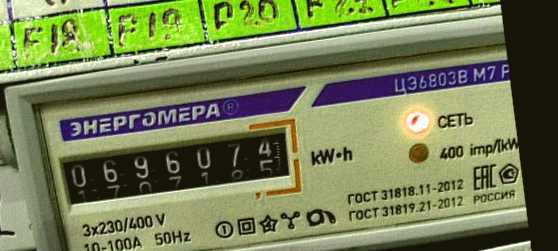0: (68, 161, 90, 188), (193, 143, 213, 171)
4: (255, 134, 273, 158)
5: (258, 157, 276, 179)
6: (162, 147, 183, 176), (99, 156, 120, 183)
7: (225, 140, 244, 168)
9: (131, 152, 150, 179)
screen: (47, 115, 308, 225)
